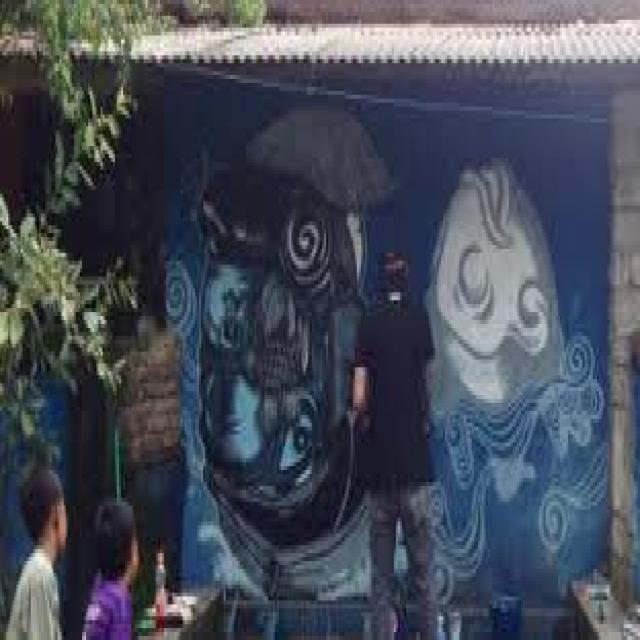-: (196, 100, 401, 600), (427, 161, 610, 602)
